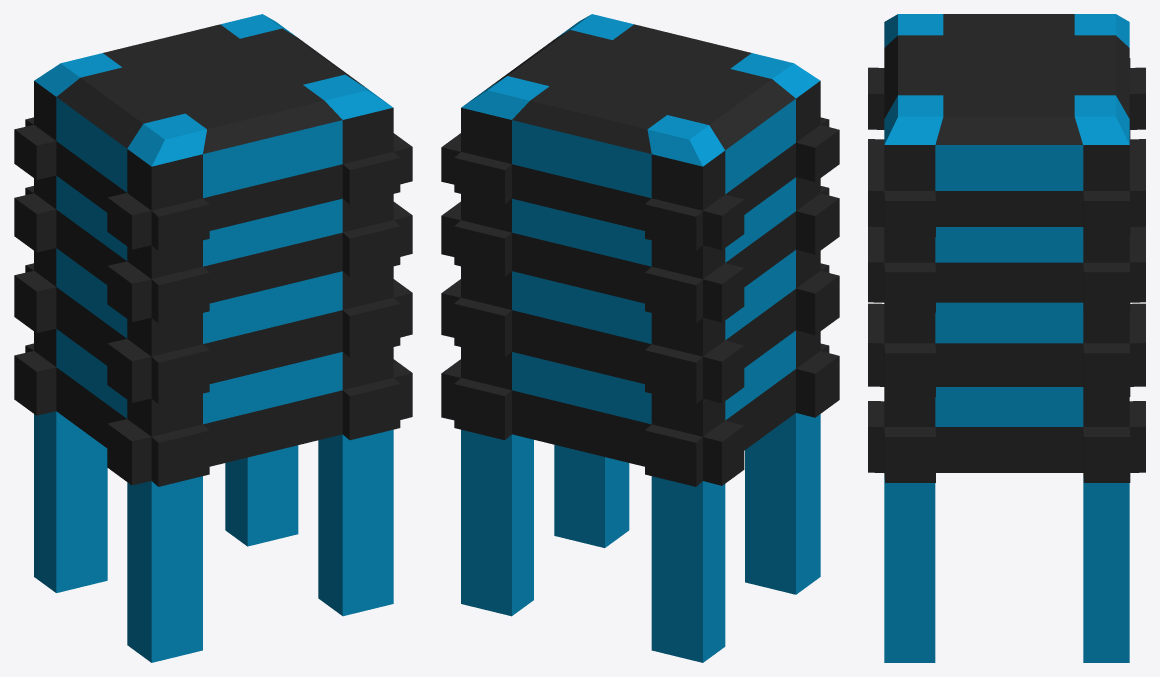
Rendered from SmBuildNeon02.fbx.
3 renders of one model, left to right at view 1: azimuth 30°, elevation 25°; view 2: azimuth 150°, elevation 25°; view 3: azimuth 270°, elevation 25°, orthographic. The views are drawn at different scales.
Parts seen in each view (by area): view 1: SmBuildNeon02; view 2: SmBuildNeon02; view 3: SmBuildNeon02.
Boxes of the visible parts, <box> form: SmBuildNeon02: <box>14,14,412,662</box>; SmBuildNeon02: <box>441,14,839,662</box>; SmBuildNeon02: <box>868,14,1145,662</box>.
Bounding box in the file's own units: 1.04 × 1.81 × 0.8504.
